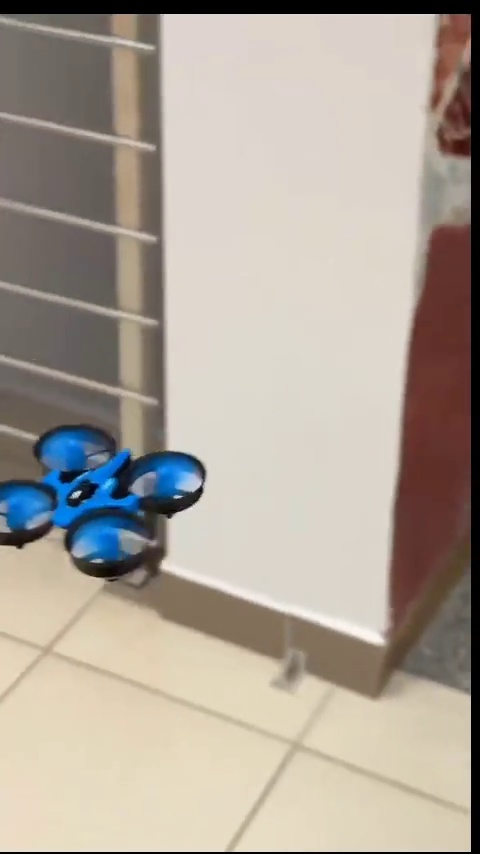drone: (3, 425, 204, 573)
